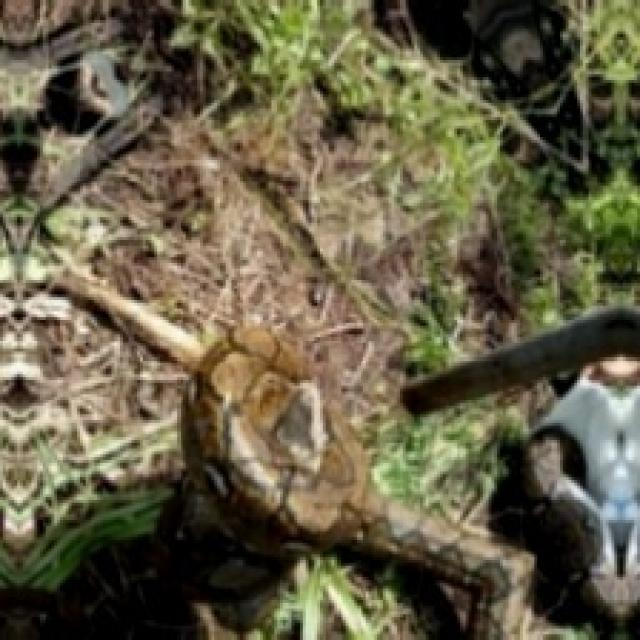reticulated python: (180, 325, 531, 640)
